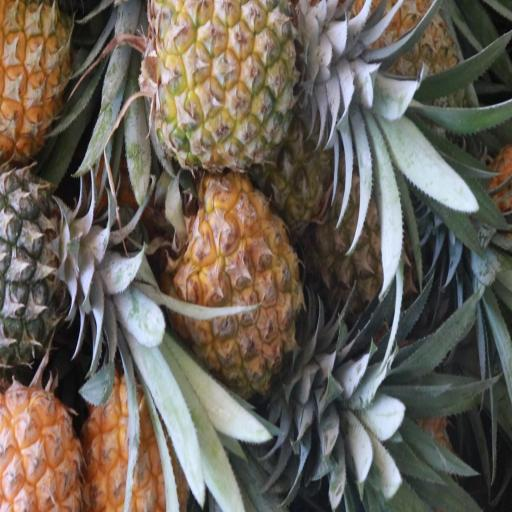------------------------------: (350, 0, 465, 141)
Pineapple - v8 v1: (162, 170, 297, 399), (144, 0, 298, 164), (82, 384, 189, 512), (0, 0, 71, 159)
